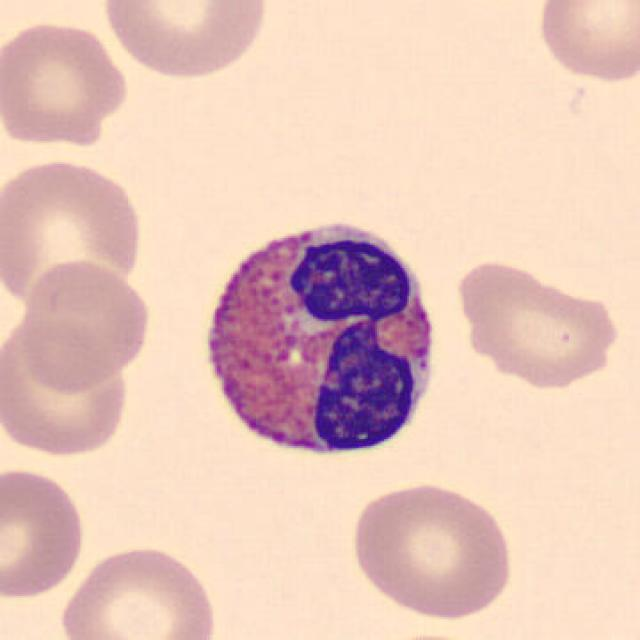Eosinophil: (186, 205, 450, 480)
RBC: (343, 476, 519, 622), (450, 256, 624, 392), (0, 153, 148, 312), (9, 256, 156, 393), (0, 317, 135, 462), (0, 14, 133, 150), (55, 539, 222, 640), (96, 0, 274, 83), (0, 462, 89, 603), (531, 0, 638, 86)
